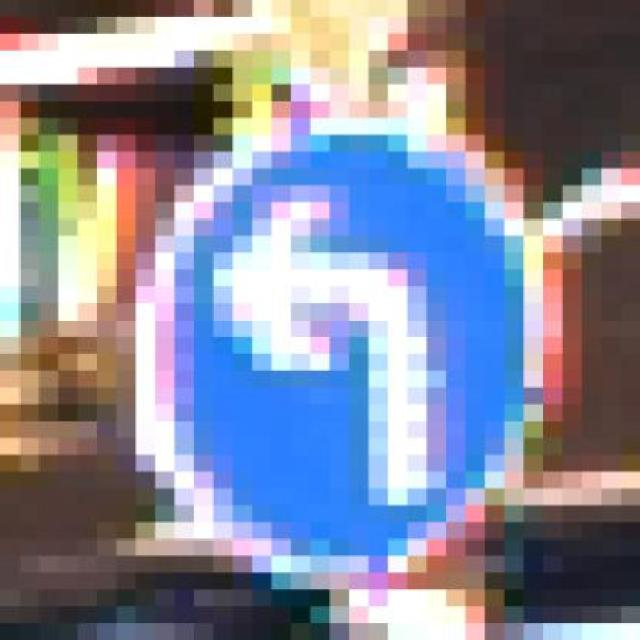Turn left ahead: (77, 135, 601, 607)
